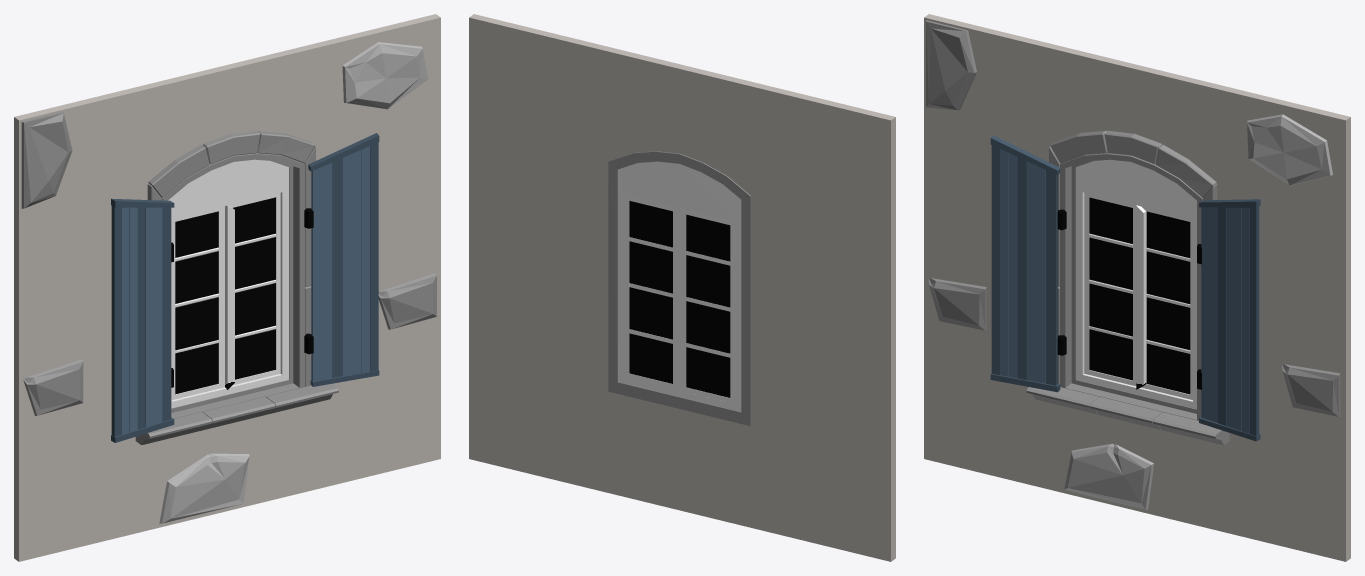
File: _WINDOW_05_1.fbx
3 views of the same model, side by side, from view 1: azimuth 30°, elevation 25°; view 2: azimuth 150°, elevation 25°; view 3: azimuth 330°, elevation 25° (orthographic).
Parts seen in each view (by area): view 1: WINDOW_05_1; view 2: WINDOW_05_1; view 3: WINDOW_05_1.
Boxes of the visible parts, box(x1,y1,x2,y2) form: WINDOW_05_1: box(14, 14, 440, 561); WINDOW_05_1: box(469, 14, 895, 561); WINDOW_05_1: box(924, 14, 1350, 561).
Bounding box in the file's own units: 300 × 300 × 25.08.
